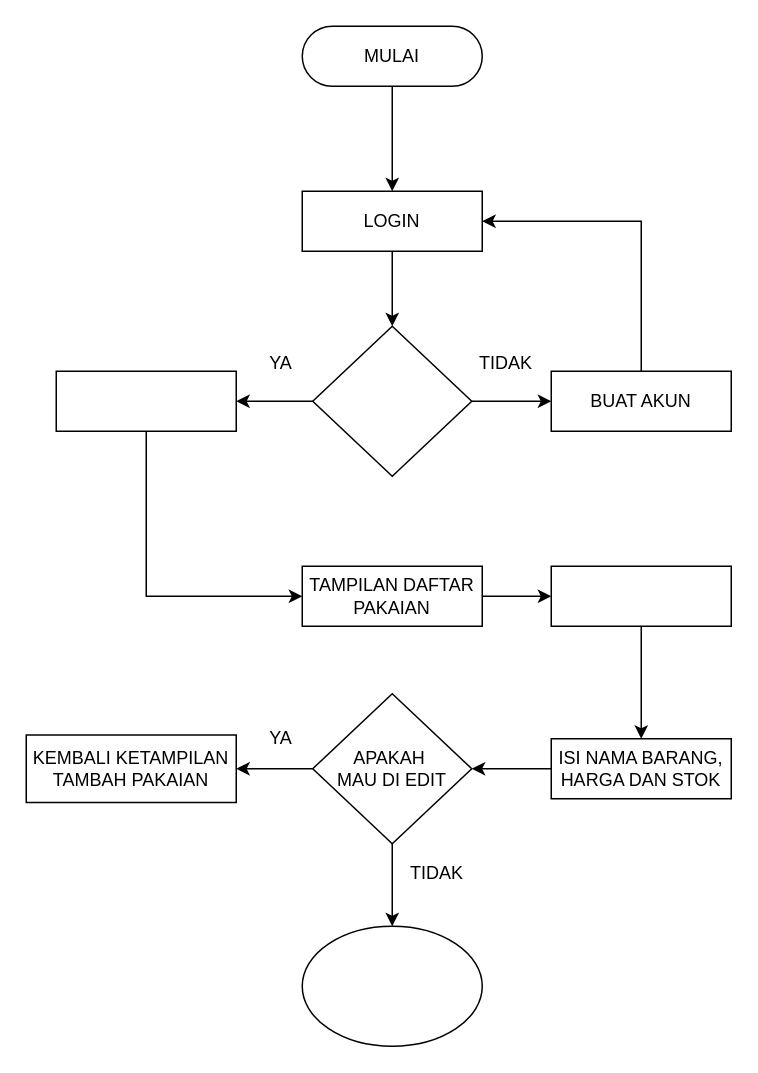
Image size: 758x1073. Some labels were removed from this diagram. The centre of each missing label's shape, as x and y in pixels:
JIKA PUNYA AKUN: point 391,400
MASUK: point 145,400
SELESAI: point 391,985
TAMBAH PAKAIAN: point 640,595
